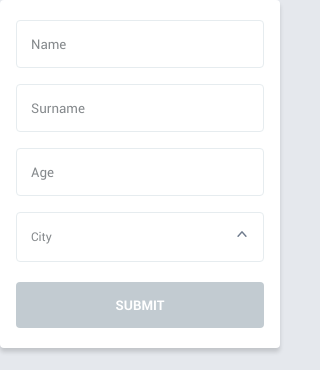
it: Edit data tests › Validation data tests › Age less than
In the number field with placeholder "Age": (140, 172) [16,148,264,196], type "13"
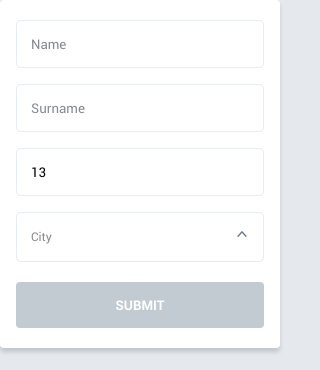
Press Tab
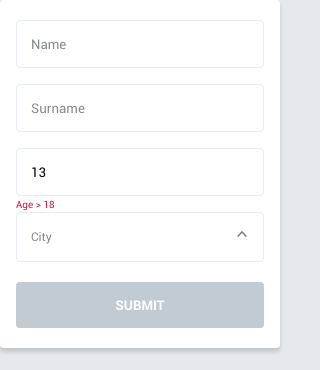
Expected: the text "Age > 18" is shown, [16,196,55,212]
